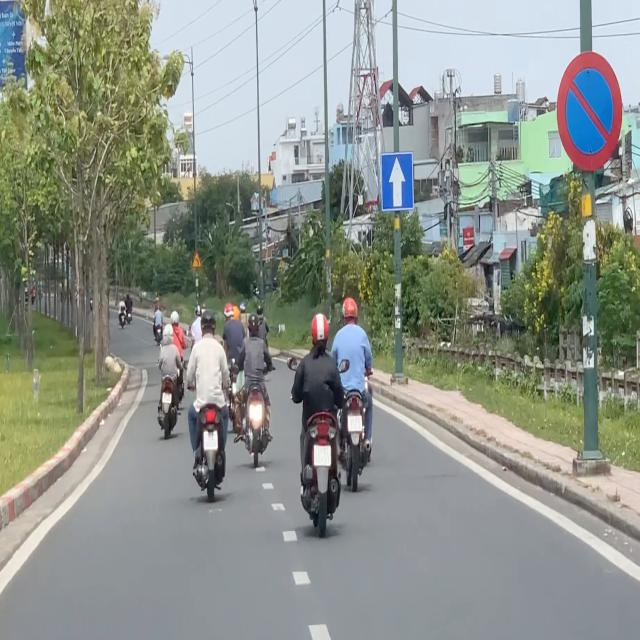Cam do: (553, 49, 625, 174)
Hieu lenh: (382, 155, 414, 208)
Nguy hiem: (192, 252, 201, 268)
